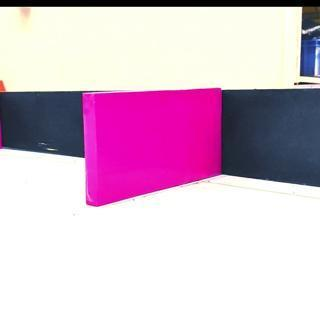xparking: (84, 92, 221, 192)
